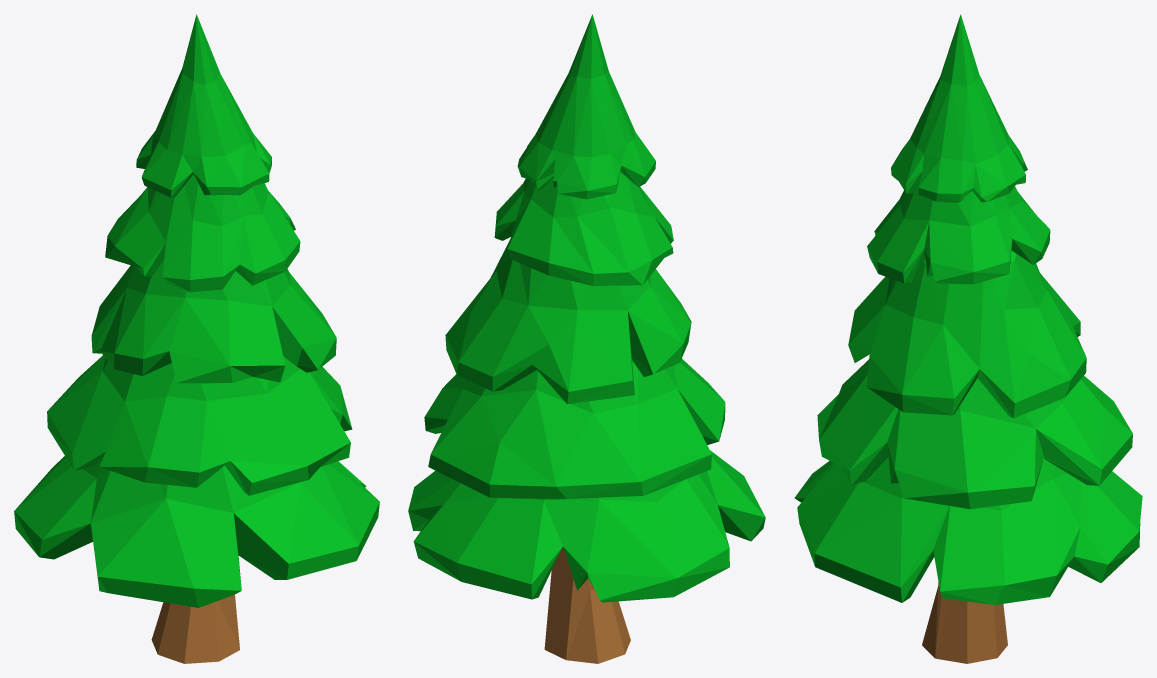
File: smreka1.glb
The picture shows the model from 3 angles, left to right: view 1: azimuth 30°, elevation 25°; view 2: azimuth 150°, elevation 25°; view 3: azimuth 270°, elevation 25°; orthographic projection.
Visible parts, largest first — view 1: Lowpoly_Tree_08; view 2: Lowpoly_Tree_08; view 3: Lowpoly_Tree_08.
Part boxes in pixels (<box>): Lowpoly_Tree_08: <box>14,14,379,663</box>; Lowpoly_Tree_08: <box>408,14,765,663</box>; Lowpoly_Tree_08: <box>794,14,1142,663</box>.
Size of the model in its own units: 0.9852 by 1.94 by 0.9729.
